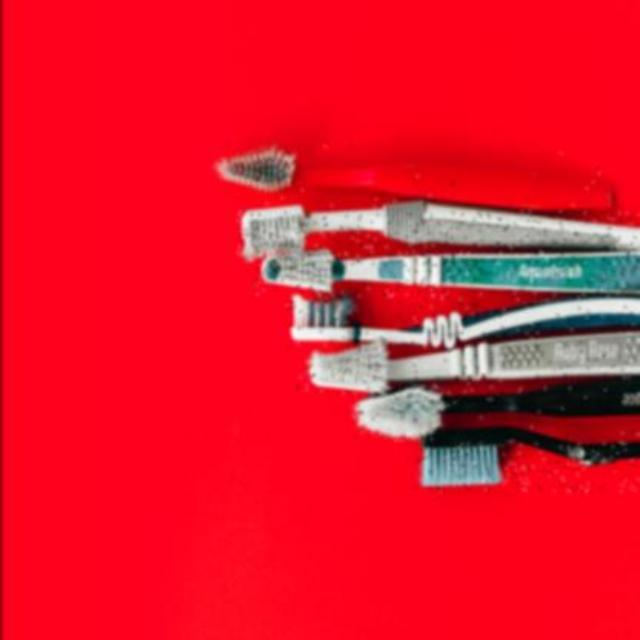toothbrush: (207, 144, 607, 210), (296, 331, 640, 394), (234, 211, 640, 263), (254, 244, 640, 296), (284, 296, 640, 350), (344, 378, 640, 442), (412, 421, 640, 491)
